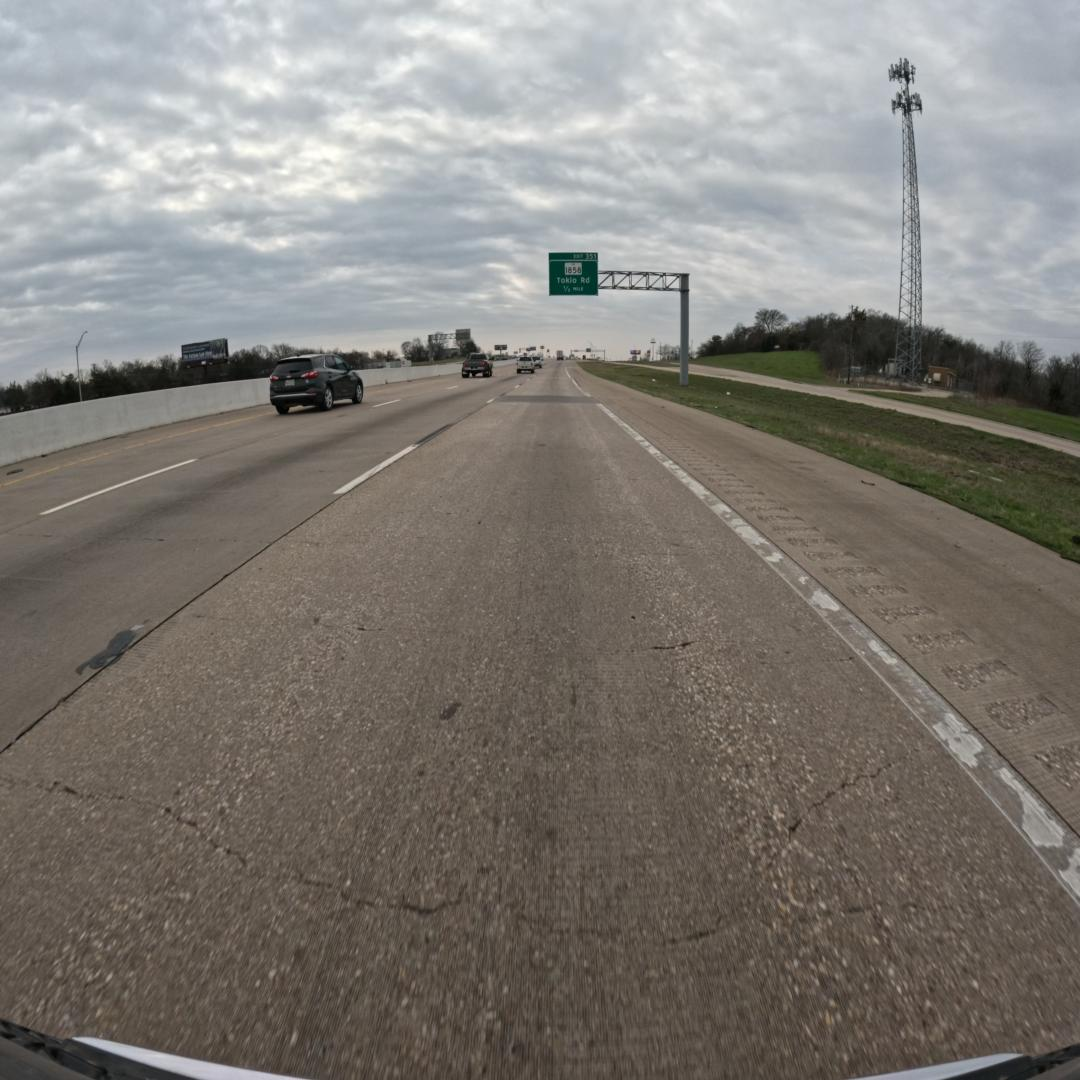lane0: (0, 371, 1080, 1076)
lane1: (0, 376, 514, 752)
